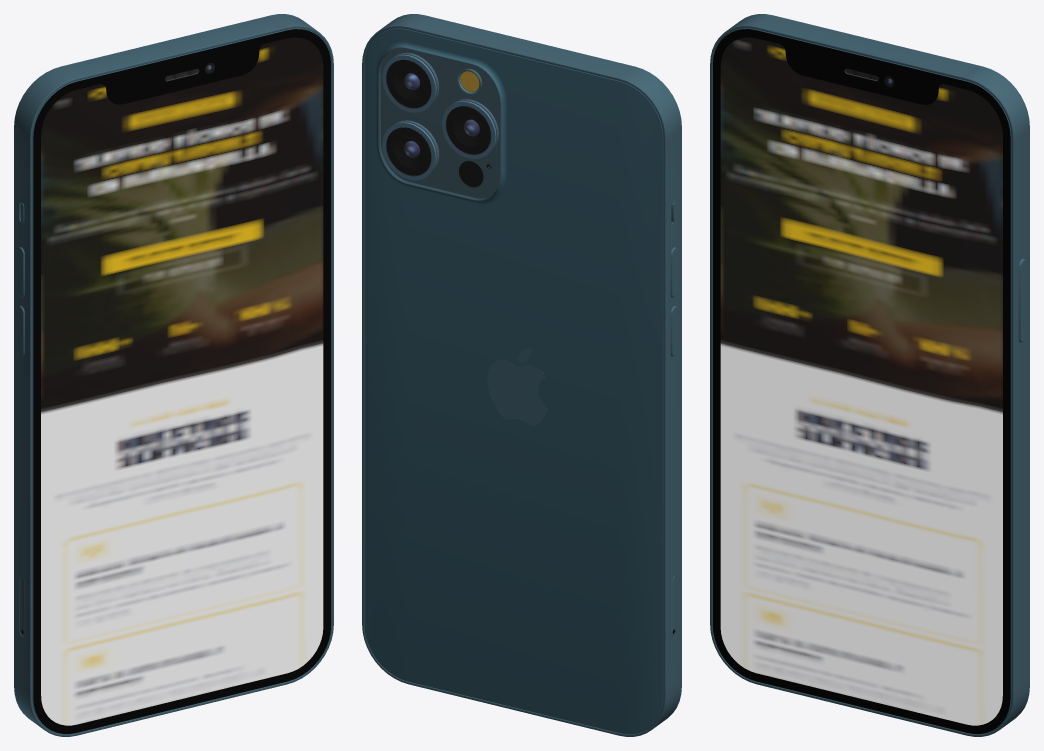
File: iphone_12_pro.glb
3 views of the same model, side by side, from view 1: azimuth 30°, elevation 25°; view 2: azimuth 150°, elevation 25°; view 3: azimuth 330°, elevation 25° (orthographic).
Parts seen in each view (by area): view 1: Screen, iPhone 12 Pro, Bezel, iPhone12 Pro, VolumeButton; view 2: iPhone12 Pro, iPhone 12 Pro, CameraModule.001, Apple Logo, Camera2, Camera1, Camera3, VolumeButton; view 3: Screen, iPhone 12 Pro, Bezel, iPhone12 Pro, PowerButton.
Boxes of the visible parts, left/top/right/bottom form: Screen: left=41, top=37, right=323, bottom=725; iPhone 12 Pro: left=14, top=14, right=333, bottom=736; Bezel: left=33, top=29, right=330, bottom=733; iPhone12 Pro: left=32, top=28, right=331, bottom=734; VolumeButton: left=17, top=247, right=24, bottom=356; iPhone12 Pro: left=364, top=28, right=663, bottom=734; iPhone 12 Pro: left=362, top=14, right=681, bottom=736; CameraModule.001: left=378, top=48, right=500, bottom=199; Apple Logo: left=487, top=347, right=547, bottom=425; Camera2: left=382, top=120, right=439, bottom=180; Camera1: left=382, top=52, right=439, bottom=112; Camera3: left=442, top=99, right=498, bottom=158; VolumeButton: left=670, top=247, right=677, bottom=356; Screen: left=720, top=37, right=1002, bottom=725; iPhone 12 Pro: left=710, top=14, right=1029, bottom=736; Bezel: left=713, top=29, right=1010, bottom=733; iPhone12 Pro: left=712, top=28, right=1011, bottom=734; PowerButton: left=1018, top=258, right=1026, bottom=342.
Bounding box in the file's own units: 48.13 × 98.5 × 5.56.
Materials: 18 (4 with a texture image).
